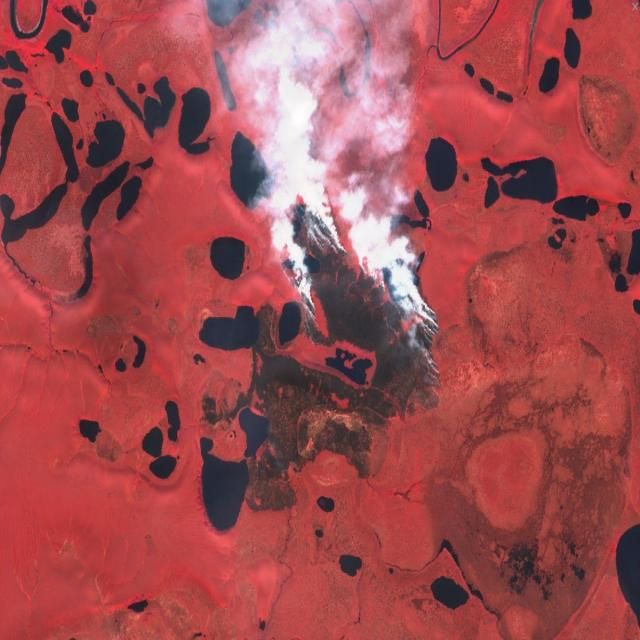fire: (284, 172, 446, 394)
